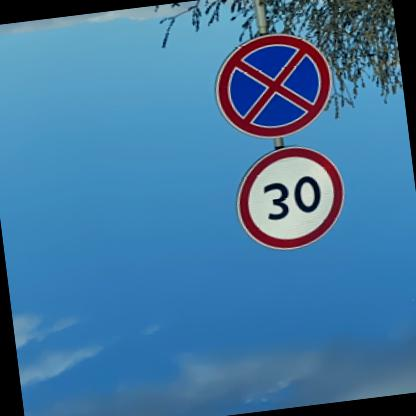speedlimit: (228, 142, 349, 257)
